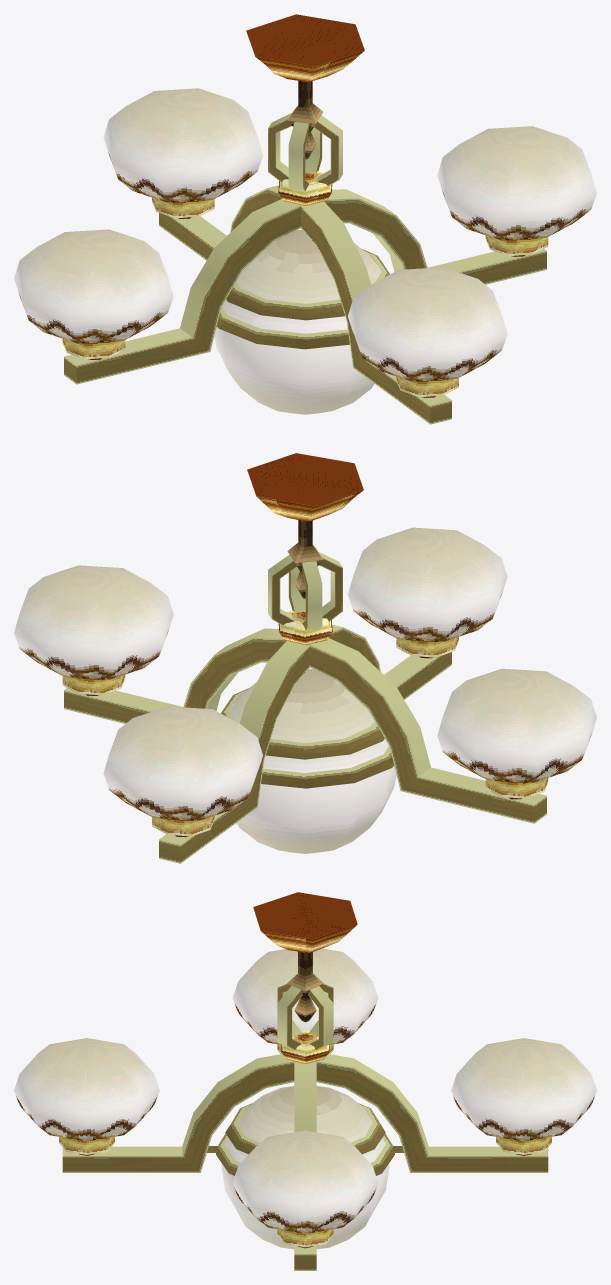
Rendered from shan39-1.glb.
The picture shows the model from 3 angles, top to bottom: view 1: azimuth 30°, elevation 25°; view 2: azimuth 150°, elevation 25°; view 3: azimuth 270°, elevation 25°; orthographic projection. The views are drawn at different scales.
Parts seen in each view (by area): view 1: shan39_1; view 2: shan39_1; view 3: shan39_1.
Boxes of the visible parts, x1,y1,x2,y2 form: shan39_1: (14, 14, 596, 424); shan39_1: (14, 453, 596, 863); shan39_1: (14, 892, 596, 1270).
Size of the model in its own units: 312 by 193 by 312.
9 materials, 9 textured.
